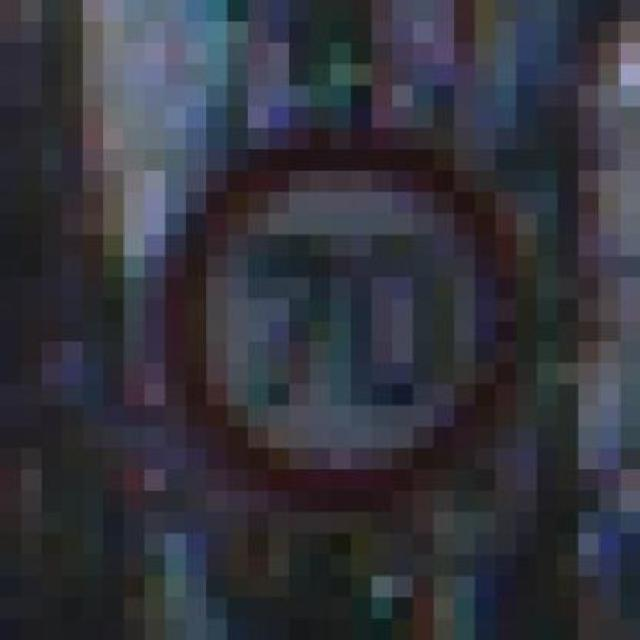forb_speed_over_70: (172, 135, 532, 495)
